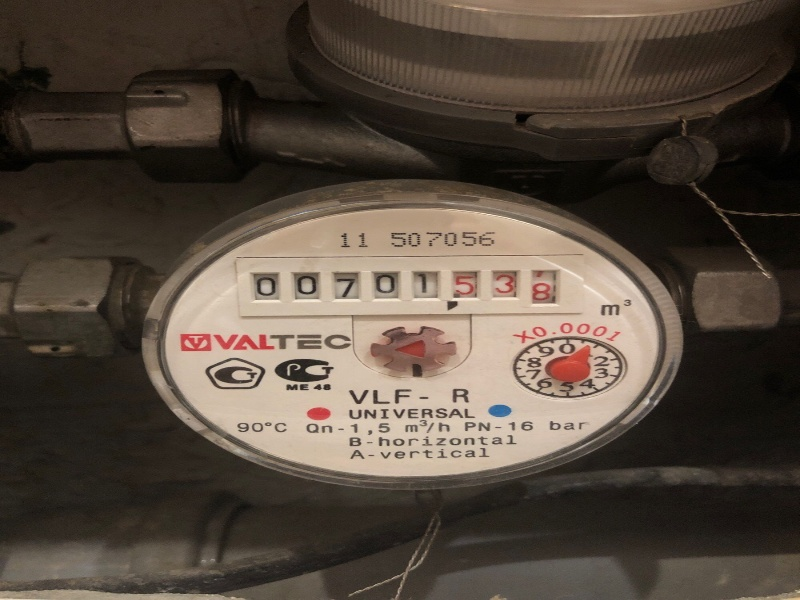dial: (236, 253, 567, 319)
